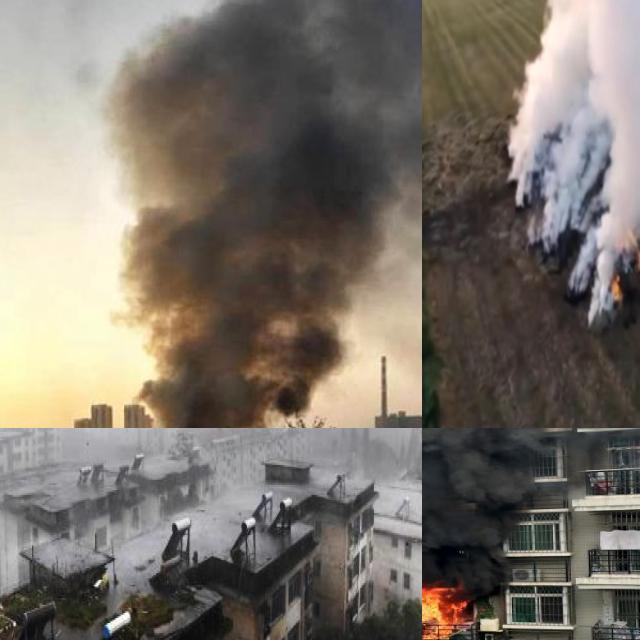fire: (422, 580, 468, 638), (608, 270, 623, 302)
smoke: (96, 0, 422, 428), (503, 0, 640, 315), (422, 428, 627, 587)
